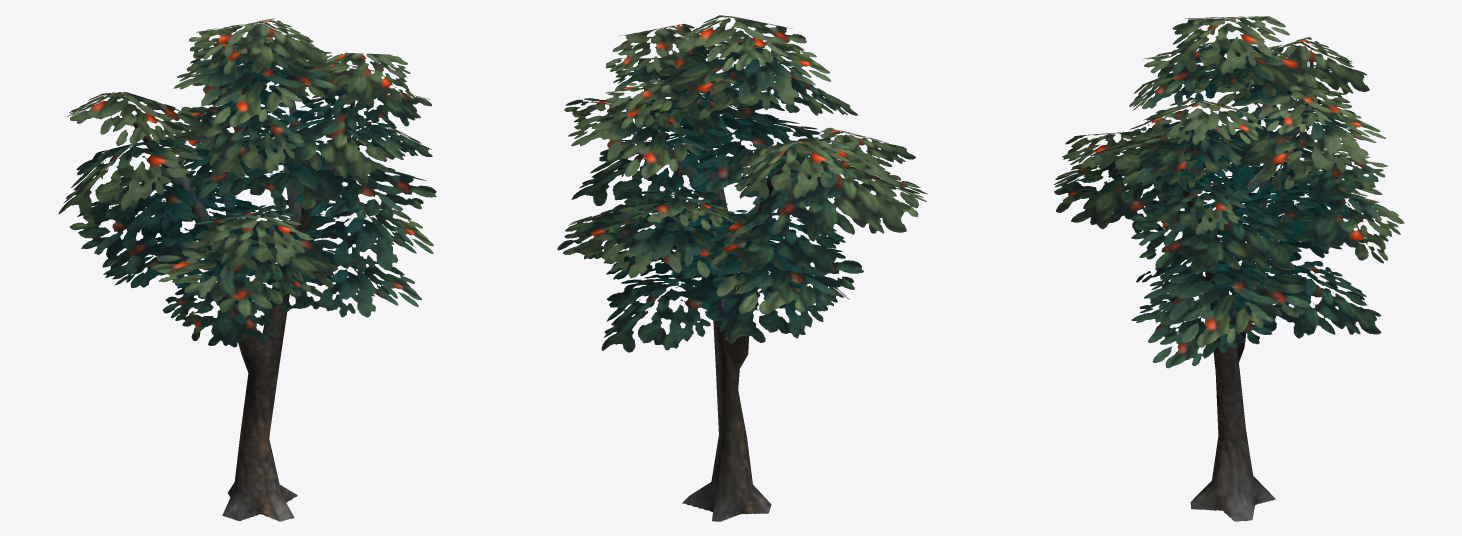
Rendered from Orange_tree_01.fbx.
The picture shows the model from 3 angles, left to right: view 1: azimuth 30°, elevation 25°; view 2: azimuth 150°, elevation 25°; view 3: azimuth 270°, elevation 25°; orthographic projection.
Visible parts, largest first — view 1: Orange_tree_01; view 2: Orange_tree_01; view 3: Orange_tree_01.
Boxes of the visible parts, left/top/right/bottom form: Orange_tree_01: left=58, top=18, right=436, bottom=521; Orange_tree_01: left=557, top=15, right=927, bottom=521; Orange_tree_01: left=1054, top=16, right=1404, bottom=521.
Size of the model in its own units: 2214 by 2461 by 2068.
